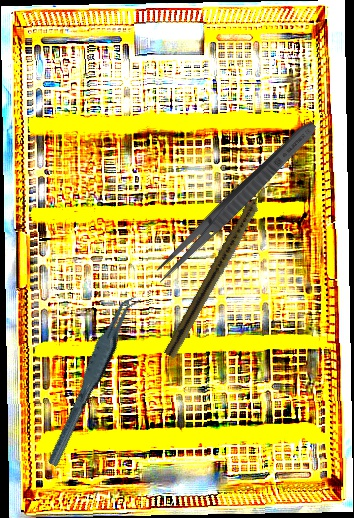Dressing Forceps: (149, 116, 322, 288)
Handpiece: (163, 180, 273, 361)
Tissue Forceps: (28, 290, 157, 469)
